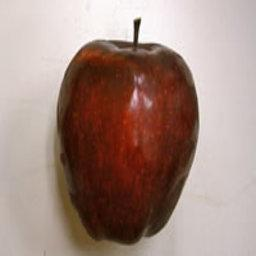apple: (55, 39, 199, 250)
